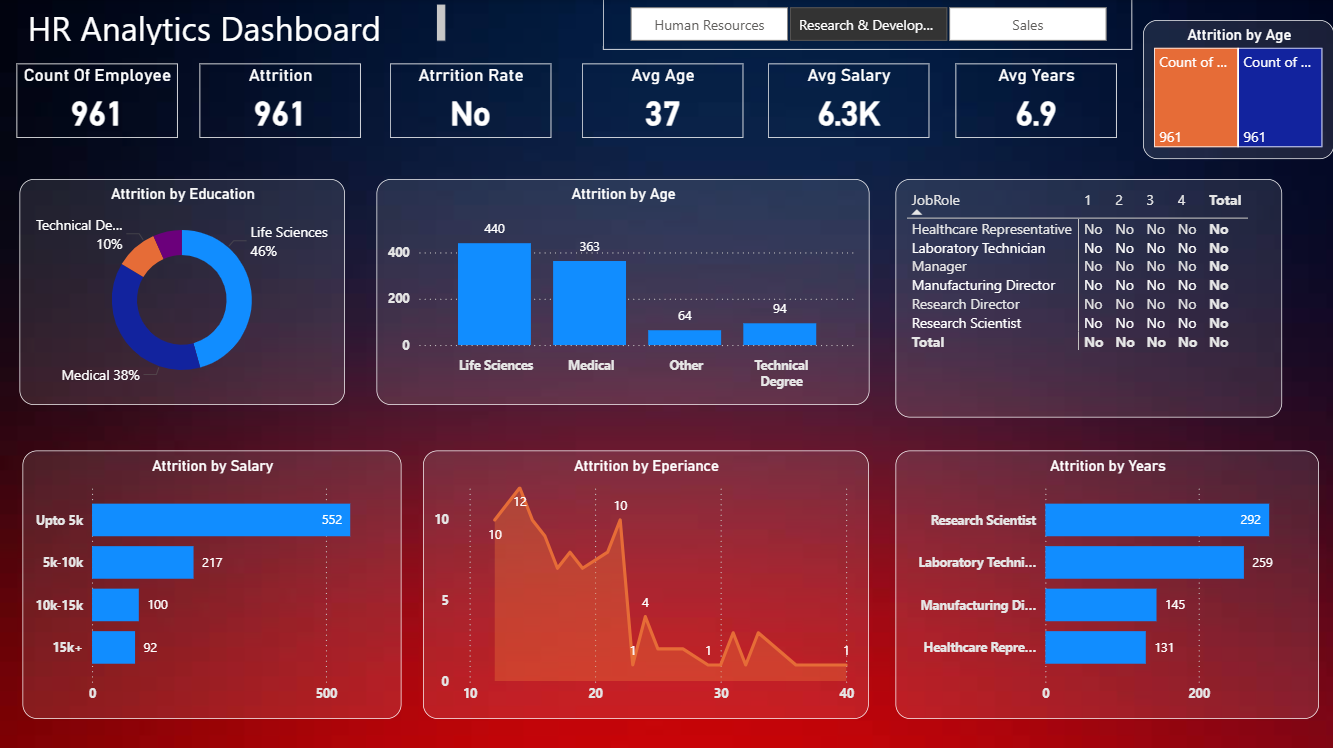

The page's visual inventory and layout, read from the dashboard file:
{"tool":"powerbi","page":{"name":"Page 1","canvas":[1280,720],"ordinal":0},"visuals":[{"type":"card","title":"Count Of Employee","fields":{"Values":["CountNonNull(HR_Analytics.EmpID)"]},"box":[16.2,62.1,154.4,71.2],"z":0},{"type":"card","title":"Attrition","fields":{"Values":["CountNonNull(HR_Analytics.Attrition)"]},"box":[191.8,62.1,154.4,71.2],"z":1000},{"type":"card","title":"Atrrition Rate","fields":{"Values":["Min(HR_Analytics.Attrition)"]},"box":[373.5,62.1,154.4,71.2],"z":2000},{"type":"card","title":"Avg Age","fields":{"Values":["Avg(HR_Analytics.Age)"]},"box":[558.2,62.1,154.4,71.2],"z":3000},{"type":"card","title":"Avg Salary","fields":{"Values":["Avg(HR_Analytics.MonthlyIncome)"]},"box":[736.9,62.1,154.4,71.2],"z":4000},{"type":"card","title":"Avg Years","fields":{"Values":["Avg(HR_Analytics.YearsAtCompany)"]},"box":[915.6,62.1,154.4,71.2],"z":5000},{"type":"donutChart","title":"Attrition by Education","fields":{"Category":["HR_Analytics.EducationField"],"Y":["CountNonNull(HR_Analytics.Attrition)"]},"box":[18.2,172.6,311.9,216.5],"z":6000},{"type":"columnChart","title":"Attrition by Age","fields":{"Category":["HR_Analytics.EducationField","HR_Analytics.AgeGroup"],"Y":["CountNonNull(HR_Analytics.Attrition)"]},"box":[360.4,172.6,472.4,216.5],"z":7000},{"type":"pivotTable","fields":{"Rows":["HR_Analytics.JobRole"],"Columns":["HR_Analytics.JobSatisfaction"],"Values":["Min(HR_Analytics.Attrition)"]},"box":[858.6,172.6,371,228.6],"z":8000},{"type":"barChart","title":"Attrition by Salary","fields":{"Category":["HR_Analytics.SalarySlab"],"Y":["CountNonNull(HR_Analytics.Attrition)"]},"box":[21.2,433.1,363.4,257.4],"z":9000},{"type":"barChart","title":"Attrition by Years","fields":{"Category":["HR_Analytics.JobRole"],"Y":["CountNonNull(HR_Analytics.Attrition)"]},"box":[858.6,433.1,405.8,257.4],"z":10000},{"type":"areaChart","title":"Attrition by Eperiance","fields":{"Category":["HR_Analytics.YearsAtCompany"],"Y":["CountNonNull(HR_Analytics.Attrition)"]},"box":[405.8,433.1,427,257.4],"z":11000},{"type":"treemap","title":"Attrition by Age","fields":{"Values":["CountNonNull(HR_Analytics.Attrition)","CountNonNull(HR_Analytics.Gender)"]},"box":[1096.3,19.7,183.2,133.3],"z":12000},{"type":"slicer","fields":{"Values":["HR_Analytics.Department"]},"box":[578.4,0,507.3,48.5],"z":13000},{"type":"textbox","box":[21.2,0,410.3,48.5],"z":14000}]}

Visuals, with their boxes in screenshot pixels (x1, y1, x2, y2), scaled from the page's 1280x720 canvas onto the 1333x748 screenshot:
"Count Of Employee" card: (17,65,178,138)
"Attrition" card: (200,65,361,138)
"Atrrition Rate" card: (389,65,550,138)
"Avg Age" card: (581,65,742,138)
"Avg Salary" card: (767,65,928,138)
"Avg Years" card: (954,65,1114,138)
"Attrition by Education" donutChart: (19,179,344,404)
"Attrition by Age" columnChart: (375,179,867,404)
pivotTable - HR_Analytics.JobRole x HR_Analytics.JobSatisfaction: (894,179,1281,417)
"Attrition by Salary" barChart: (22,450,401,717)
"Attrition by Years" barChart: (894,450,1317,717)
"Attrition by Eperiance" areaChart: (423,450,867,717)
"Attrition by Age" treemap: (1142,20,1332,159)
slicer - HR_Analytics.Department: (602,0,1131,50)
textbox: (22,0,449,50)
